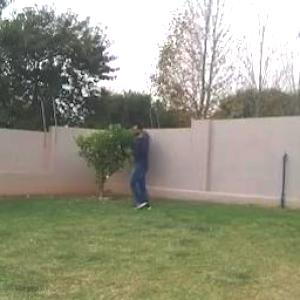follow: (128, 123, 151, 218)
